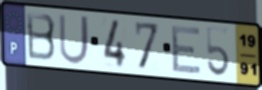4: (101, 17, 128, 70)
5: (204, 24, 233, 79)
7: (133, 19, 161, 72)
B: (24, 10, 58, 63)
E: (170, 24, 204, 75)
U: (57, 12, 91, 67)
